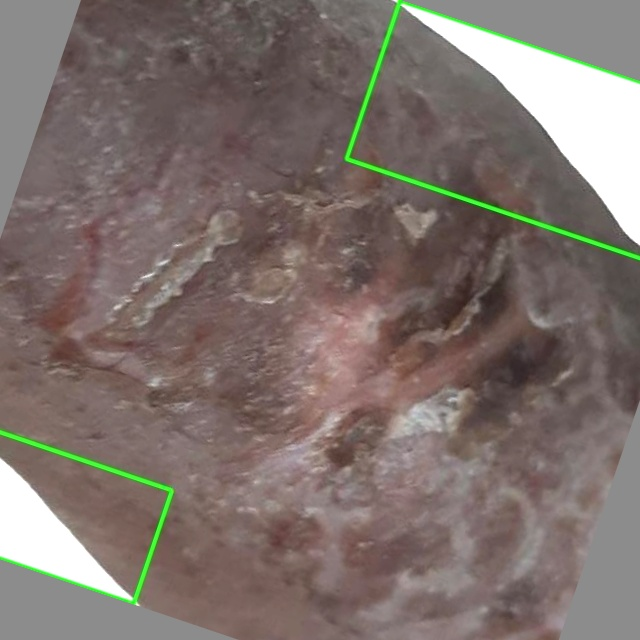Eczema: (346, 0, 639, 258), (0, 431, 172, 603)
